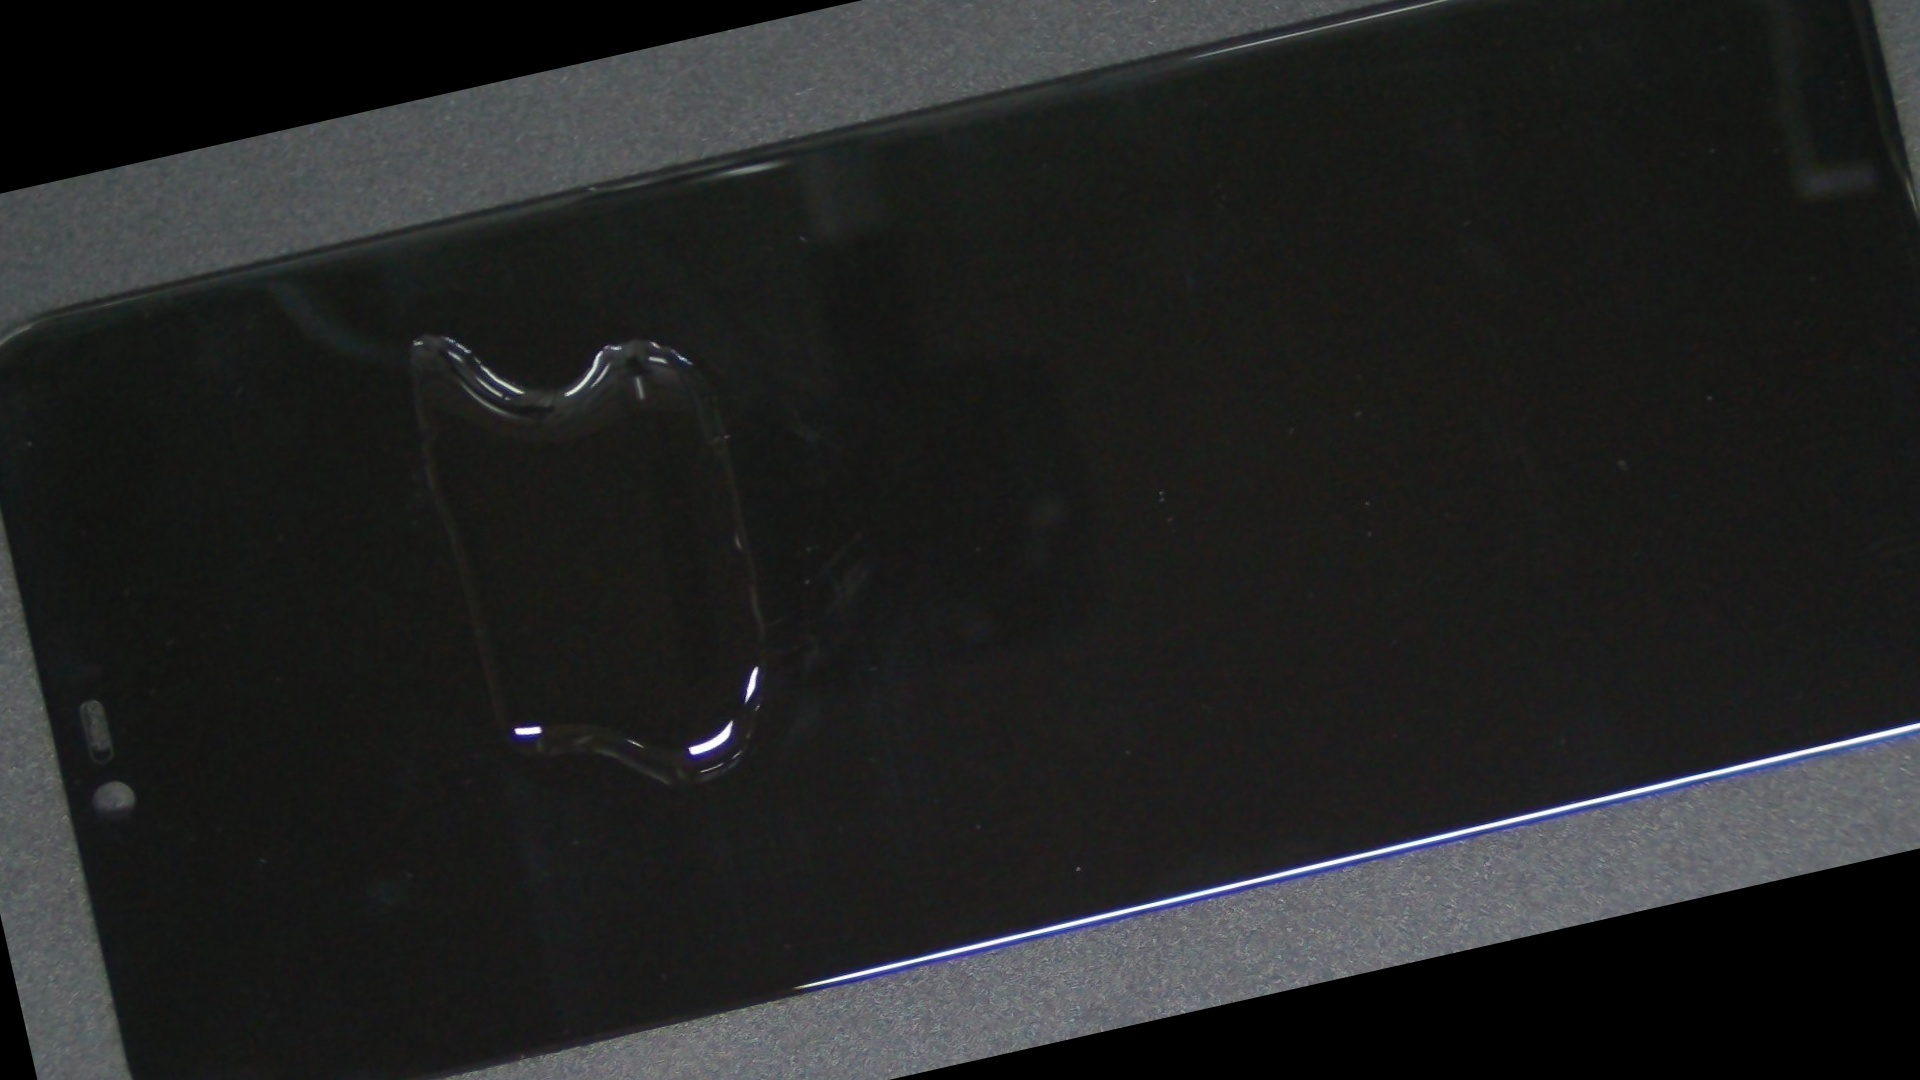oil: (129, 166, 696, 508)
